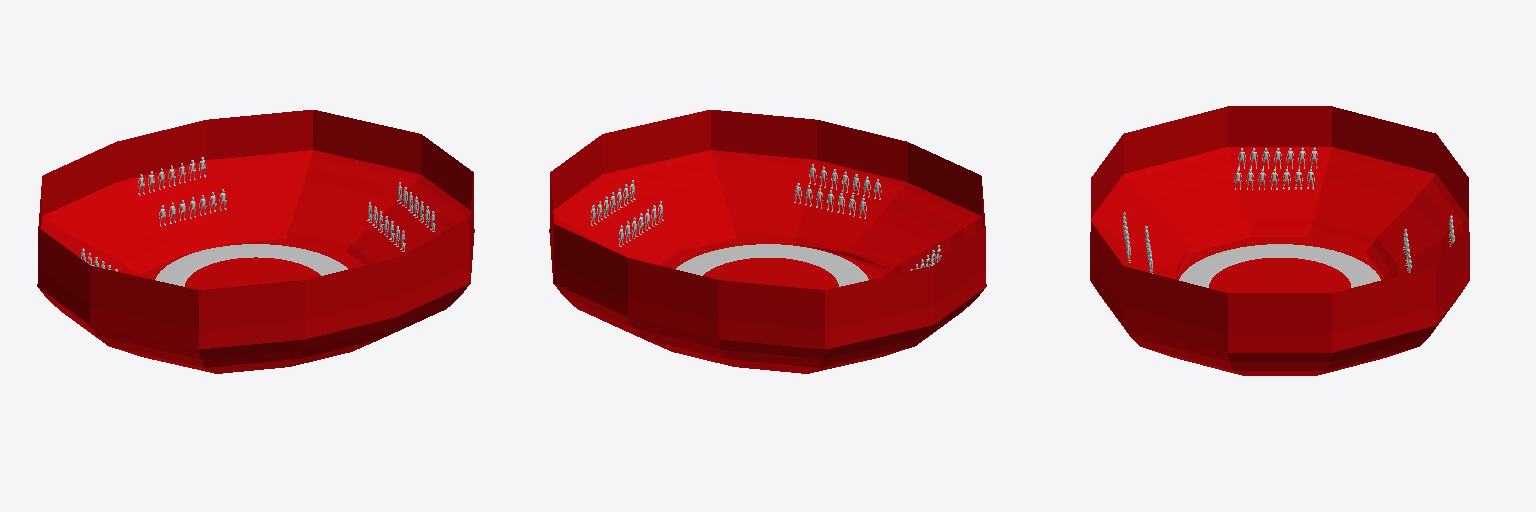
File: combo.obj
3 renders of one model, left to right at view 1: azimuth 30°, elevation 25°; view 2: azimuth 150°, elevation 25°; view 3: azimuth 270°, elevation 25°, orthographic.
Visible parts, largest first — view 1: Cube, BezierCircle.001_BezierCircle, Cube_Material_0.001, Cube_Material_0; view 2: Cube, BezierCircle.001_BezierCircle, Cube_Material_0.002_Cube_Material_0.005, Cube_Material_0.003_Cube_Material_0.006; view 3: Cube, BezierCircle.001_BezierCircle, Cube_Material_0.006_Cube_Material_0.009, Cube_Material_0.007_Cube_Material_0.010.
Part boxes in pixels (left/top/right/bottom): Cube: left=37, top=110, right=474, bottom=373; BezierCircle.001_BezierCircle: left=155, top=244, right=347, bottom=286; Cube_Material_0.001: left=159, top=189, right=226, bottom=226; Cube_Material_0: left=137, top=157, right=205, bottom=195; Cube: left=549, top=110, right=986, bottom=373; BezierCircle.001_BezierCircle: left=676, top=244, right=868, bottom=286; Cube_Material_0.002_Cube_Material_0.005: left=794, top=183, right=866, bottom=218; Cube_Material_0.003_Cube_Material_0.006: left=809, top=164, right=881, bottom=199; Cube: left=1090, top=106, right=1469, bottom=375; BezierCircle.001_BezierCircle: left=1179, top=244, right=1380, bottom=287; Cube_Material_0.006_Cube_Material_0.009: left=1234, top=169, right=1314, bottom=189; Cube_Material_0.007_Cube_Material_0.010: left=1238, top=147, right=1317, bottom=168.
Bounding box in the file's own units: 176 × 48.97 × 150.